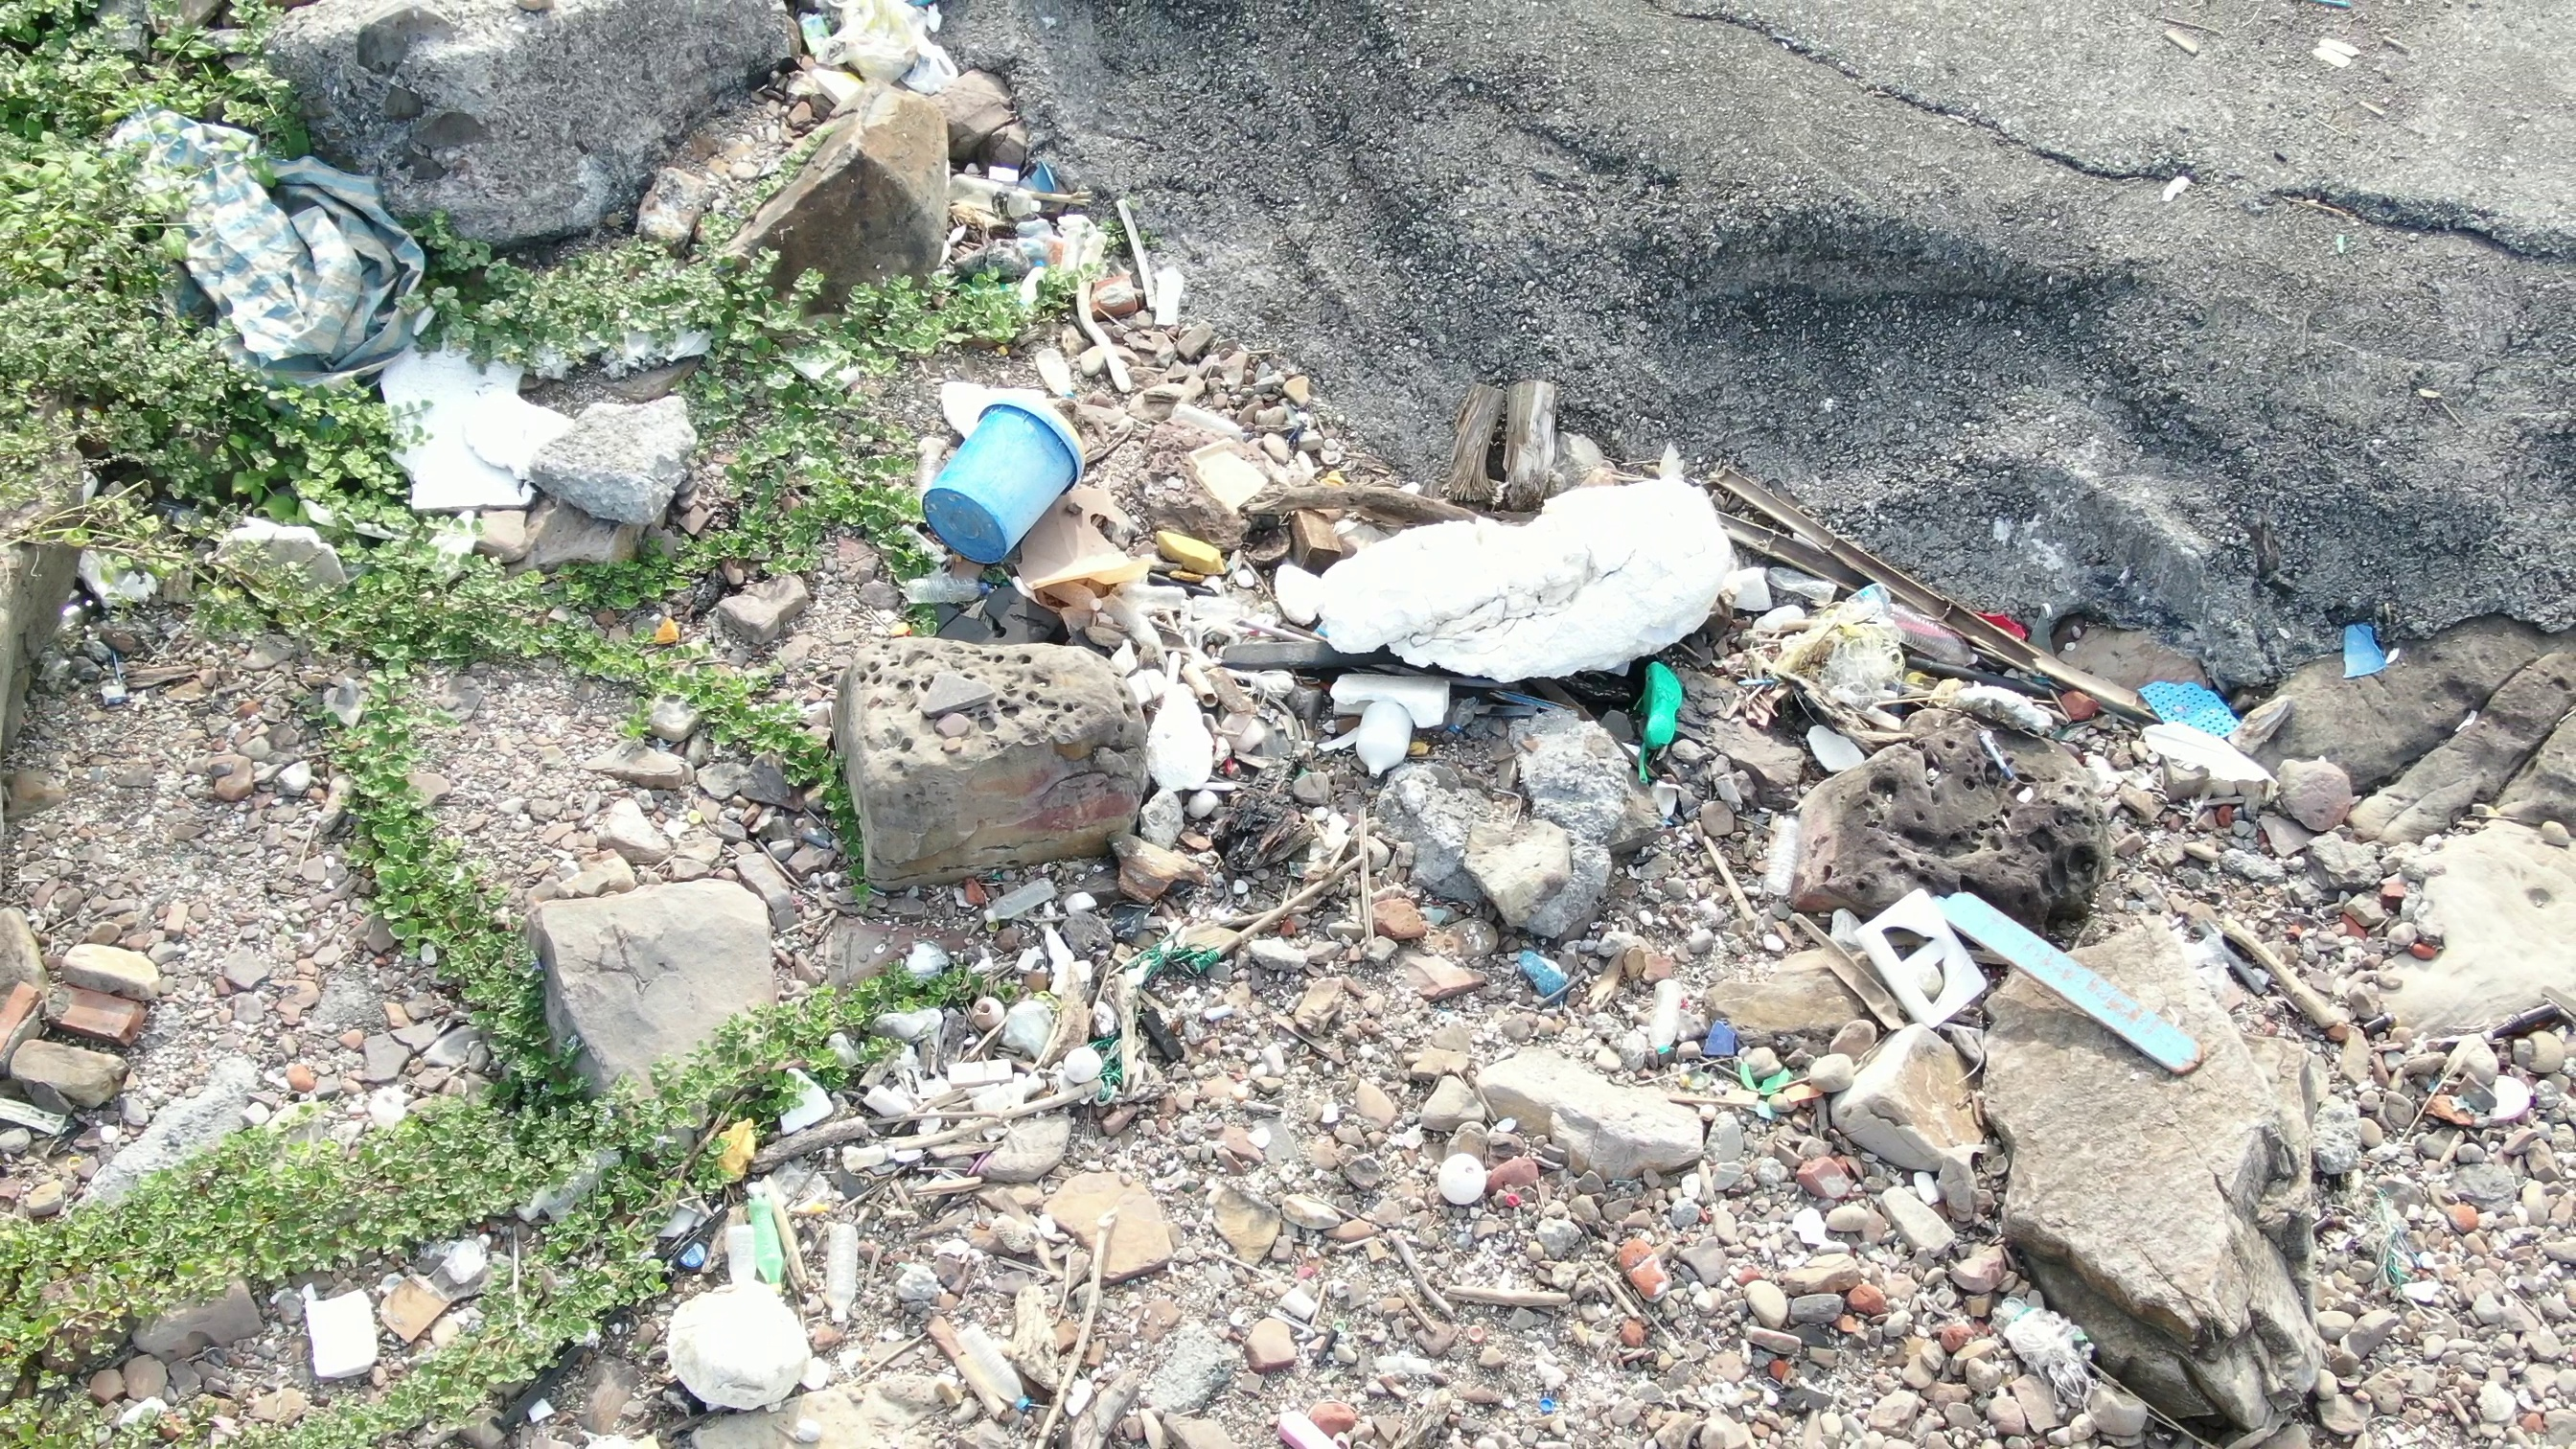bottle: (971, 870, 1069, 927), (899, 568, 996, 616)
garbage: (1247, 476, 1769, 807), (101, 97, 441, 386), (1840, 867, 2204, 1095), (660, 1100, 816, 1422), (370, 331, 573, 511), (922, 398, 1118, 563), (1766, 561, 1936, 732), (1014, 524, 1237, 648), (1076, 939, 1231, 1093), (777, 2, 964, 113), (1973, 582, 2105, 734), (971, 154, 1113, 292), (1122, 649, 1237, 801), (1697, 1021, 1824, 1132), (1499, 924, 1592, 1014), (2135, 678, 2250, 740), (2341, 612, 2408, 694)
